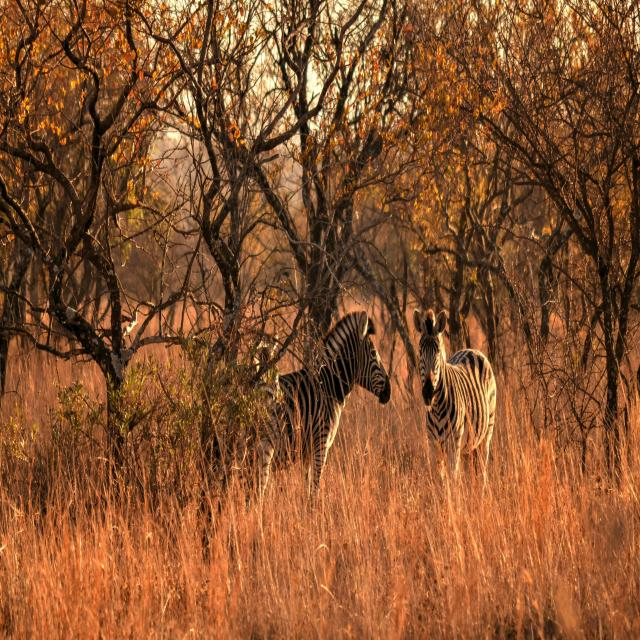Zebra: (218, 310, 392, 516), (412, 308, 497, 502)
